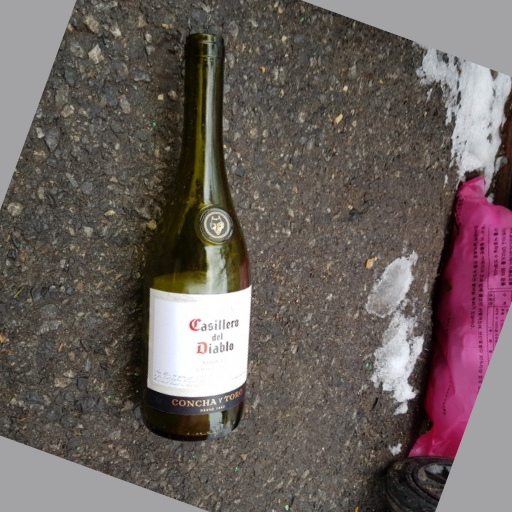Glass_2: (139, 33, 252, 444)
